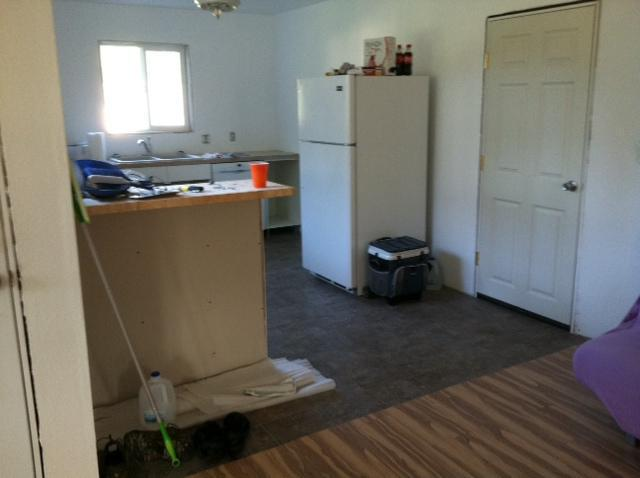Bote de Basura: (364, 232, 431, 307)
Lavaplatos: (107, 133, 229, 169)
Otro Obstaculo: (64, 178, 199, 468), (188, 407, 254, 463), (136, 365, 178, 428)
